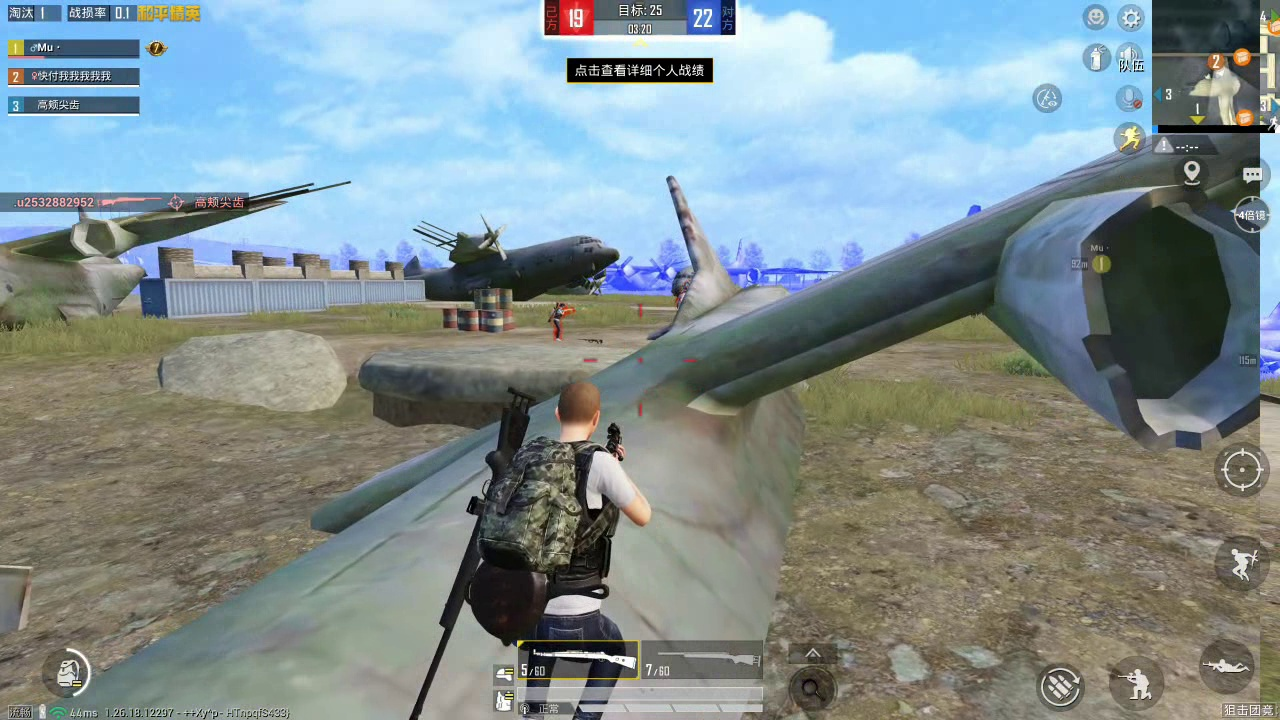enemy: (549, 300, 575, 342)
